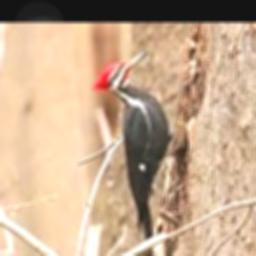Woodpecker: (91, 50, 172, 241)
